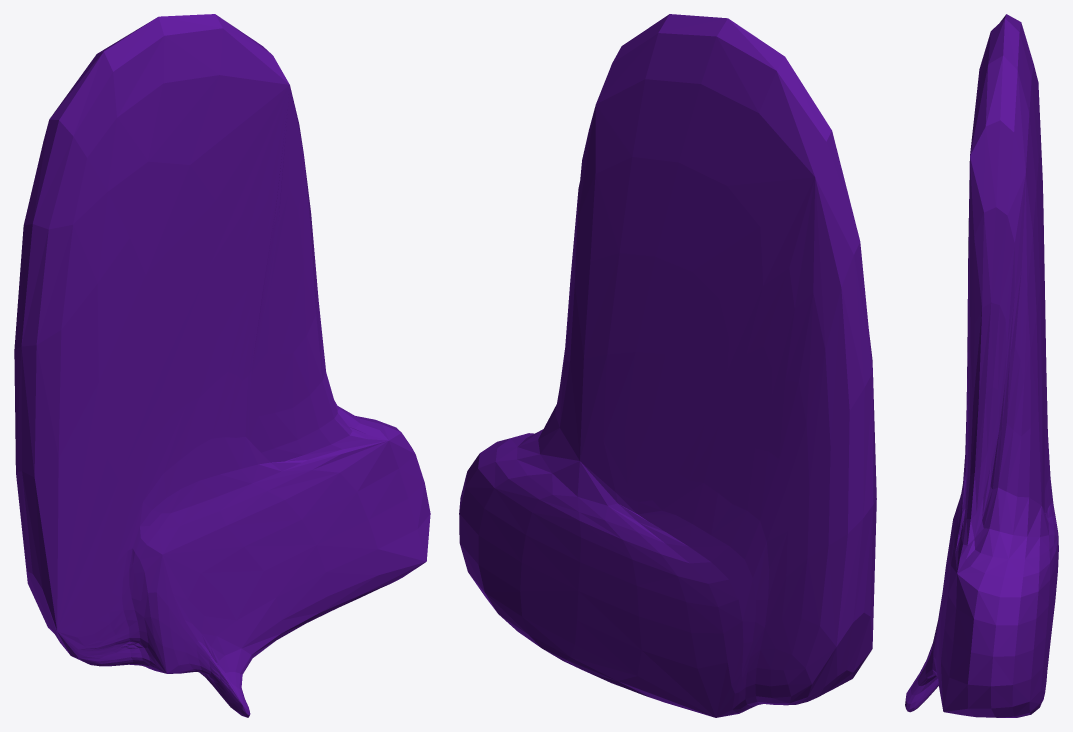
The picture shows the model from 3 angles, left to right: view 1: azimuth 30°, elevation 25°; view 2: azimuth 150°, elevation 25°; view 3: azimuth 270°, elevation 25°; orthographic projection. The views are drawn at different scales.
Visible parts, largest first — view 1: 838_Cube.3382; view 2: 838_Cube.3382; view 3: 838_Cube.3382.
Boxes of the visible parts, <box> form: 838_Cube.3382: <box>14,14,430,717</box>; 838_Cube.3382: <box>459,14,876,717</box>; 838_Cube.3382: <box>905,14,1058,717</box>.
Size of the model in its own units: 7.56 by 12.39 by 2.57.
